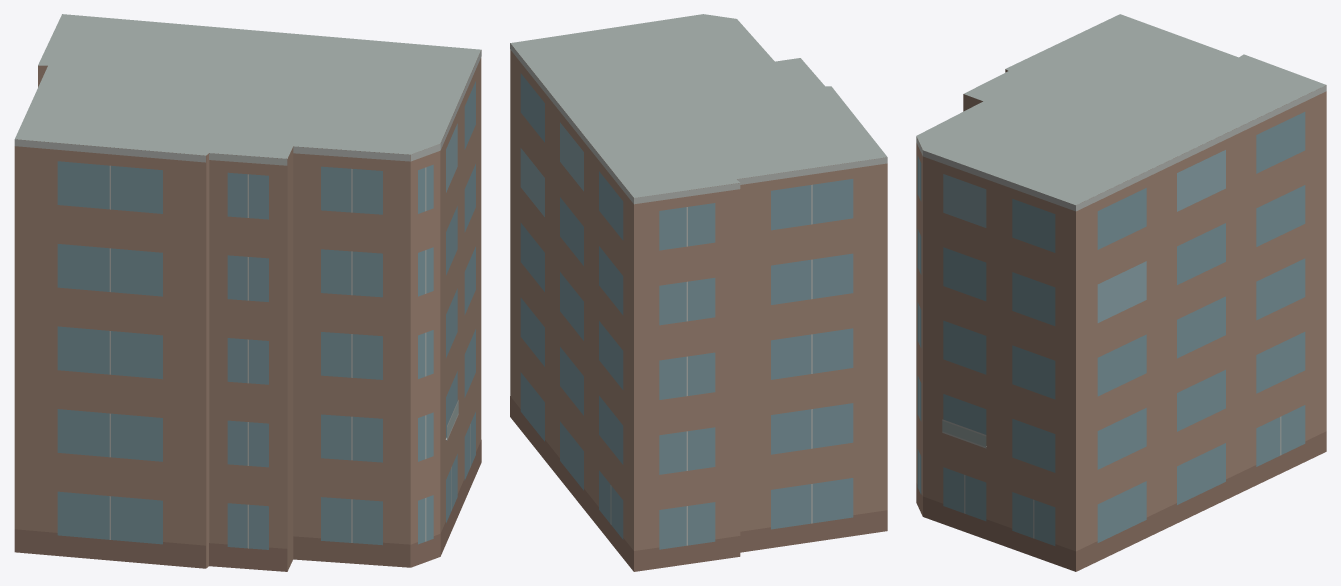
File: survey-upis-33021221.glb
3 renders of one model, left to right at view 1: azimuth 30°, elevation 25°; view 2: azimuth 150°, elevation 25°; view 3: azimuth 270°, elevation 25°, orthographic. The views are drawn at different scales.
Visible parts, largest first — view 1: survey-upis-33021221.tmp; view 2: survey-upis-33021221.tmp; view 3: survey-upis-33021221.tmp.
Boxes of the visible parts, x1,y1,x2,y2 form: survey-upis-33021221.tmp: (14,14,481,571); survey-upis-33021221.tmp: (510,14,887,571); survey-upis-33021221.tmp: (916,14,1326,571).
Bounding box in the file's own units: 16.24 × 14.5 × 14.72.
